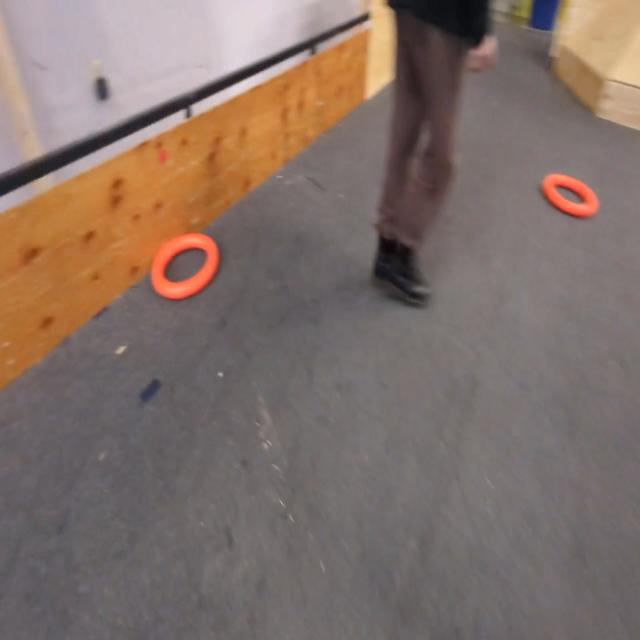note: (151, 233, 221, 299), (540, 172, 600, 217)
